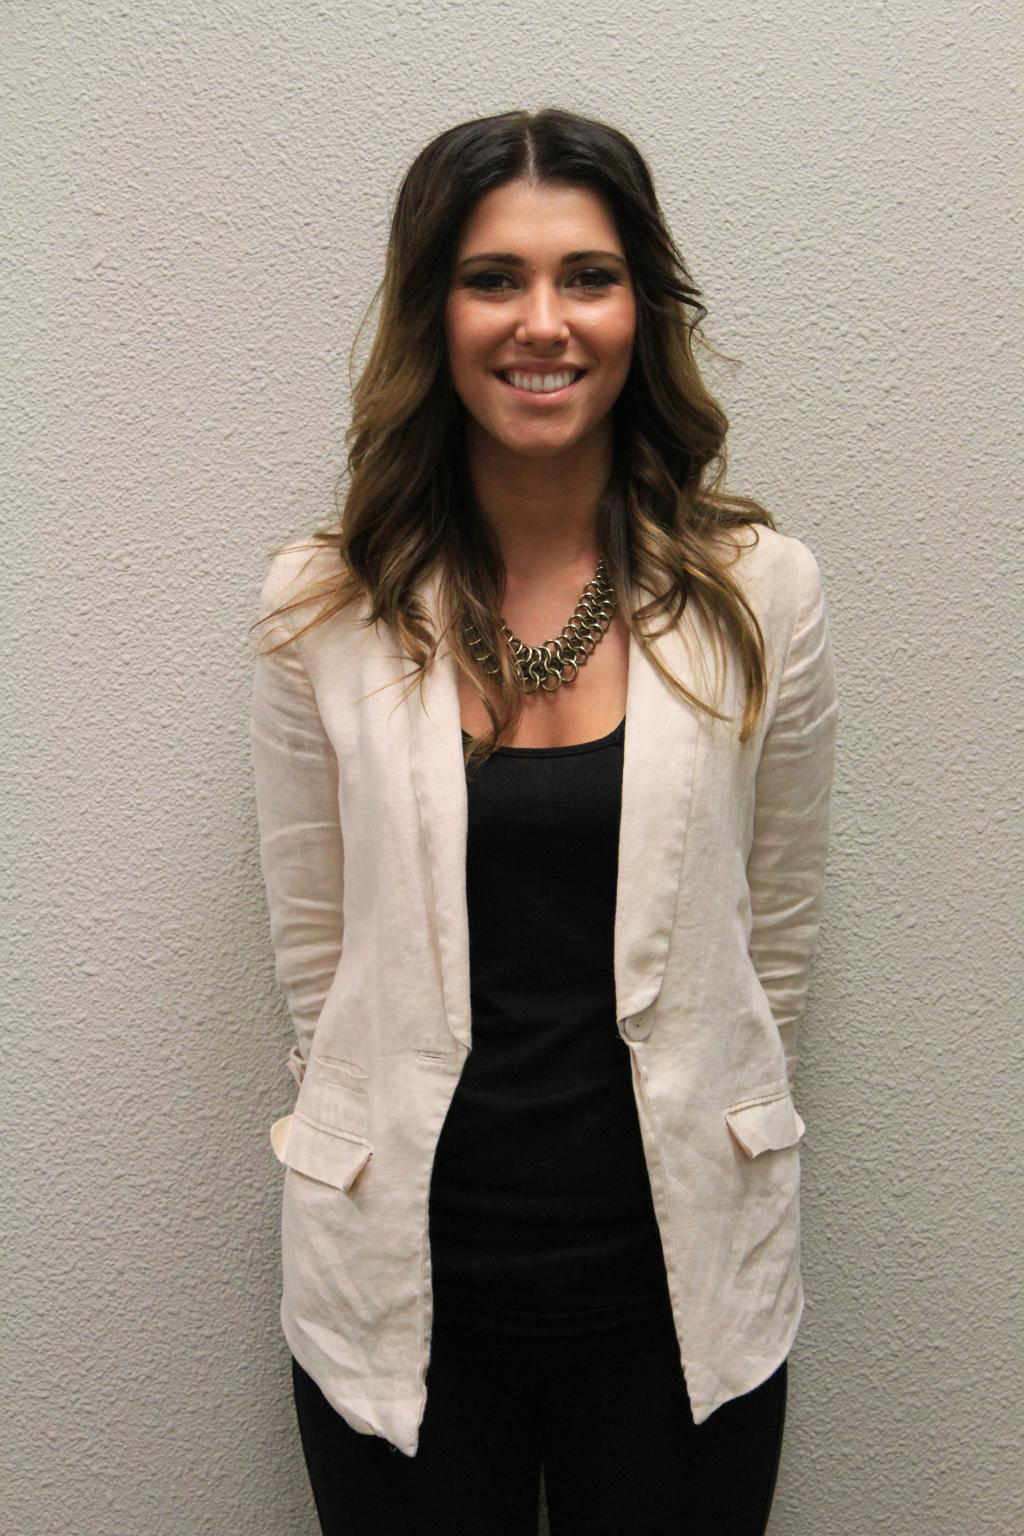face: (441, 186, 636, 453)
